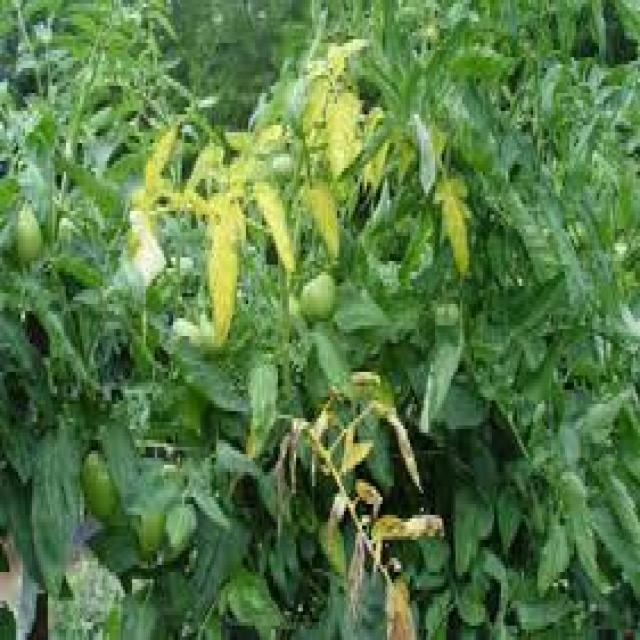Rust: (277, 344, 448, 640), (124, 99, 297, 326), (275, 15, 385, 286), (386, 80, 500, 305)
